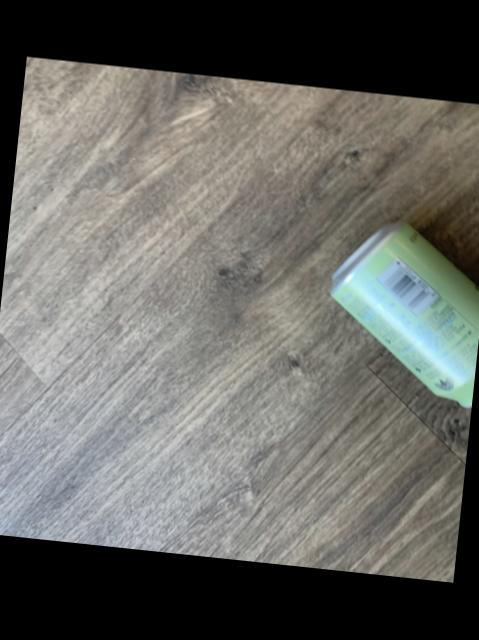metal: (332, 224, 479, 408)
